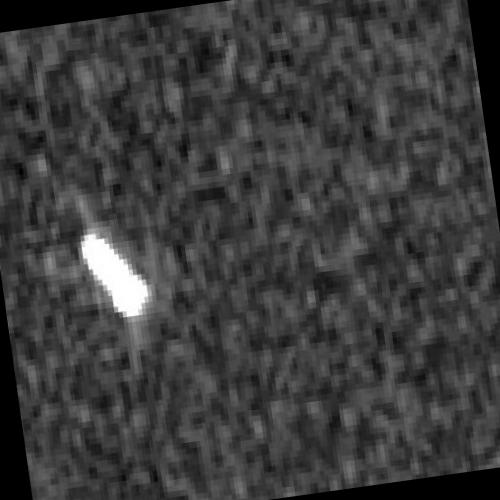ship: (78, 227, 154, 320)
